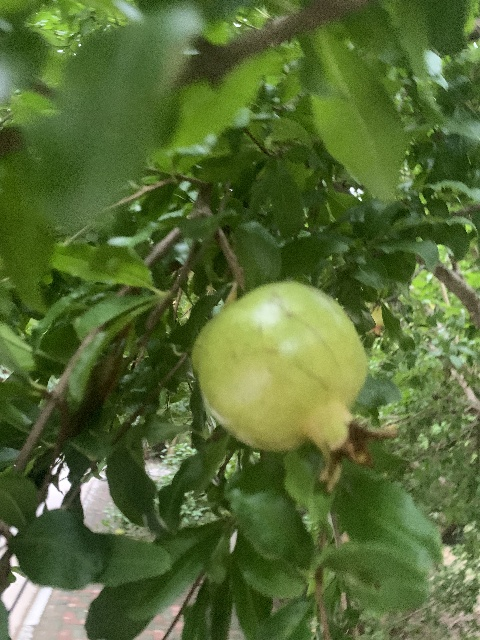mid-growth: (192, 282, 397, 490)
